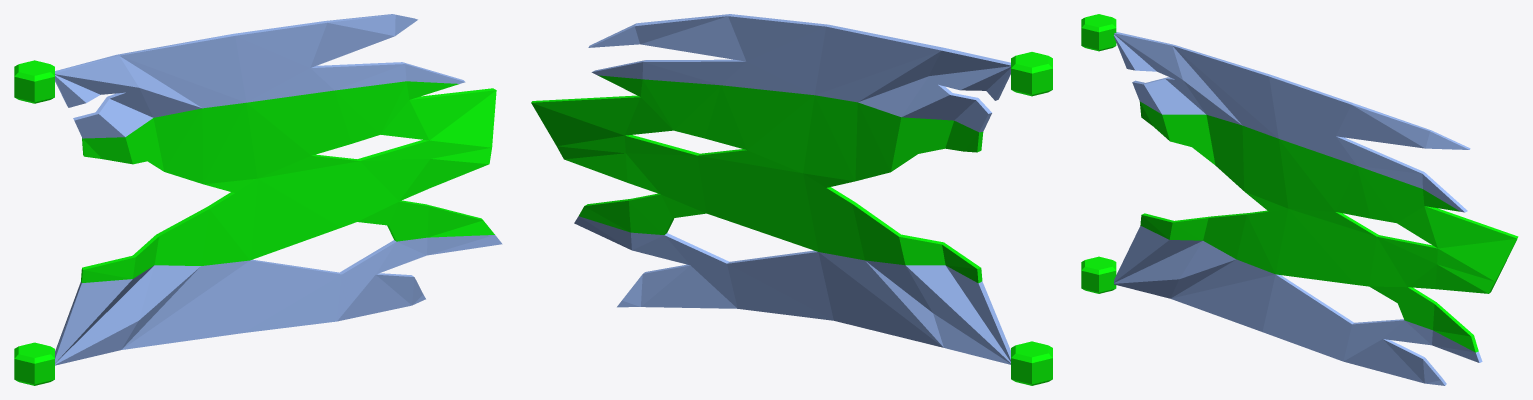
The model's file is SM_Flag_Regular_A_Broken_Fantasy.fbx.
The picture shows the model from 3 angles, left to right: view 1: azimuth 30°, elevation 25°; view 2: azimuth 150°, elevation 25°; view 3: azimuth 330°, elevation 25°; orthographic projection. The views are drawn at different scales.
Visible parts, largest first — view 1: flag-regular-a-broken-fantasy; view 2: flag-regular-a-broken-fantasy; view 3: flag-regular-a-broken-fantasy.
Boxes of the visible parts, x1,y1,x2,y2 form: flag-regular-a-broken-fantasy: (14, 14, 502, 385); flag-regular-a-broken-fantasy: (531, 14, 1052, 385); flag-regular-a-broken-fantasy: (1081, 14, 1518, 385).
Size of the model in its own units: 1.09 by 0.6994 by 0.1481.
